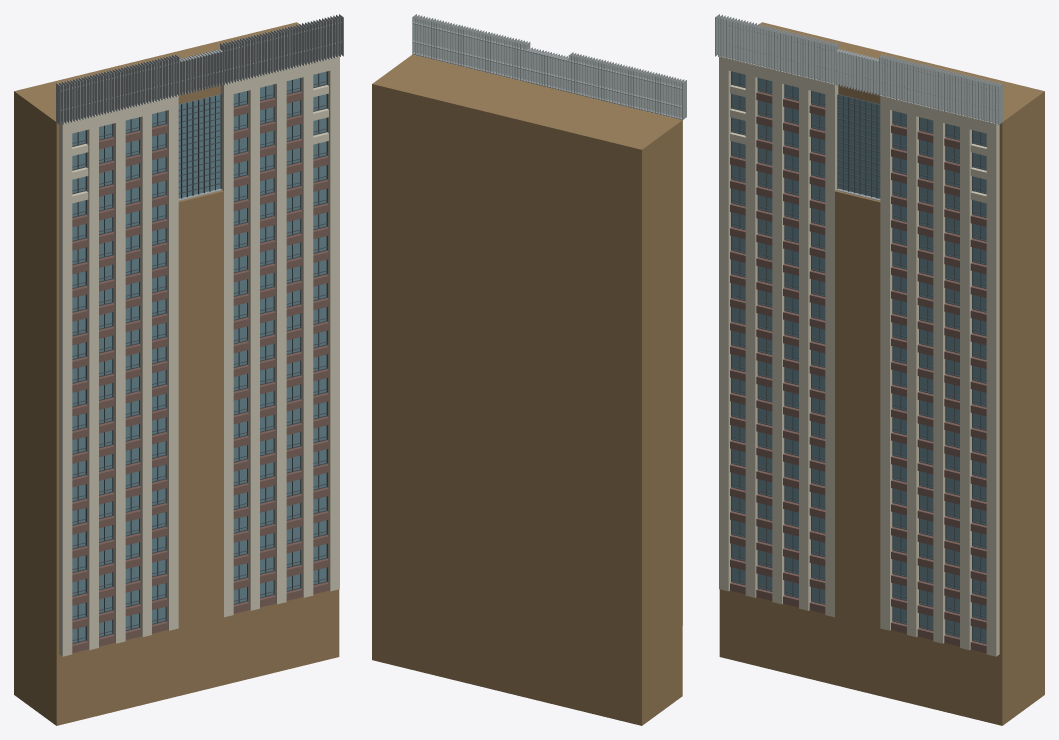
The model's file is light.glb.
3 renders of one model, left to right at view 1: azimuth 30°, elevation 25°; view 2: azimuth 150°, elevation 25°; view 3: azimuth 330°, elevation 25°, orthographic. The views are drawn at different scales.
Parts seen in each view (by area): view 1: HOLD_closed_support_mass, F_spandrel_-1_3_19, F_glass_-1_0_0, F_spandrel_-1_0_0, F_window_jamb_-1_0_0_-1.465, F_upper_center_bottom_rail; view 2: HOLD_closed_support_mass, F_upper_center_bottom_rail, F_spandrel_-1_3_19; view 3: HOLD_closed_support_mass, F_spandrel_-1_3_19, F_glass_-1_0_0, F_spandrel_-1_0_0, F_window_jamb_-1_0_0_-1.465, F_upper_center_bottom_rail.
Boxes of the visible parts, bbox=[...] form: HOLD_closed_support_mass: bbox=[14, 22, 339, 725]; F_spandrel_-1_3_19: bbox=[59, 56, 339, 656]; F_glass_-1_0_0: bbox=[72, 71, 326, 642]; F_spandrel_-1_0_0: bbox=[72, 91, 328, 653]; F_window_jamb_-1_0_0_-1.465: bbox=[72, 71, 327, 644]; F_upper_center_bottom_rail: bbox=[56, 14, 343, 200]; HOLD_closed_support_mass: bbox=[372, 54, 682, 725]; F_upper_center_bottom_rail: bbox=[412, 14, 686, 120]; F_spandrel_-1_3_19: bbox=[415, 55, 682, 625]; HOLD_closed_support_mass: bbox=[719, 22, 1044, 725]; F_spandrel_-1_3_19: bbox=[719, 56, 999, 656]; F_glass_-1_0_0: bbox=[732, 71, 986, 642]; F_spandrel_-1_0_0: bbox=[730, 91, 986, 653]; F_window_jamb_-1_0_0_-1.465: bbox=[731, 71, 986, 644]; F_upper_center_bottom_rail: bbox=[715, 14, 1002, 200].
Bounding box in the file's own units: 50.08 × 109 × 14.33.
